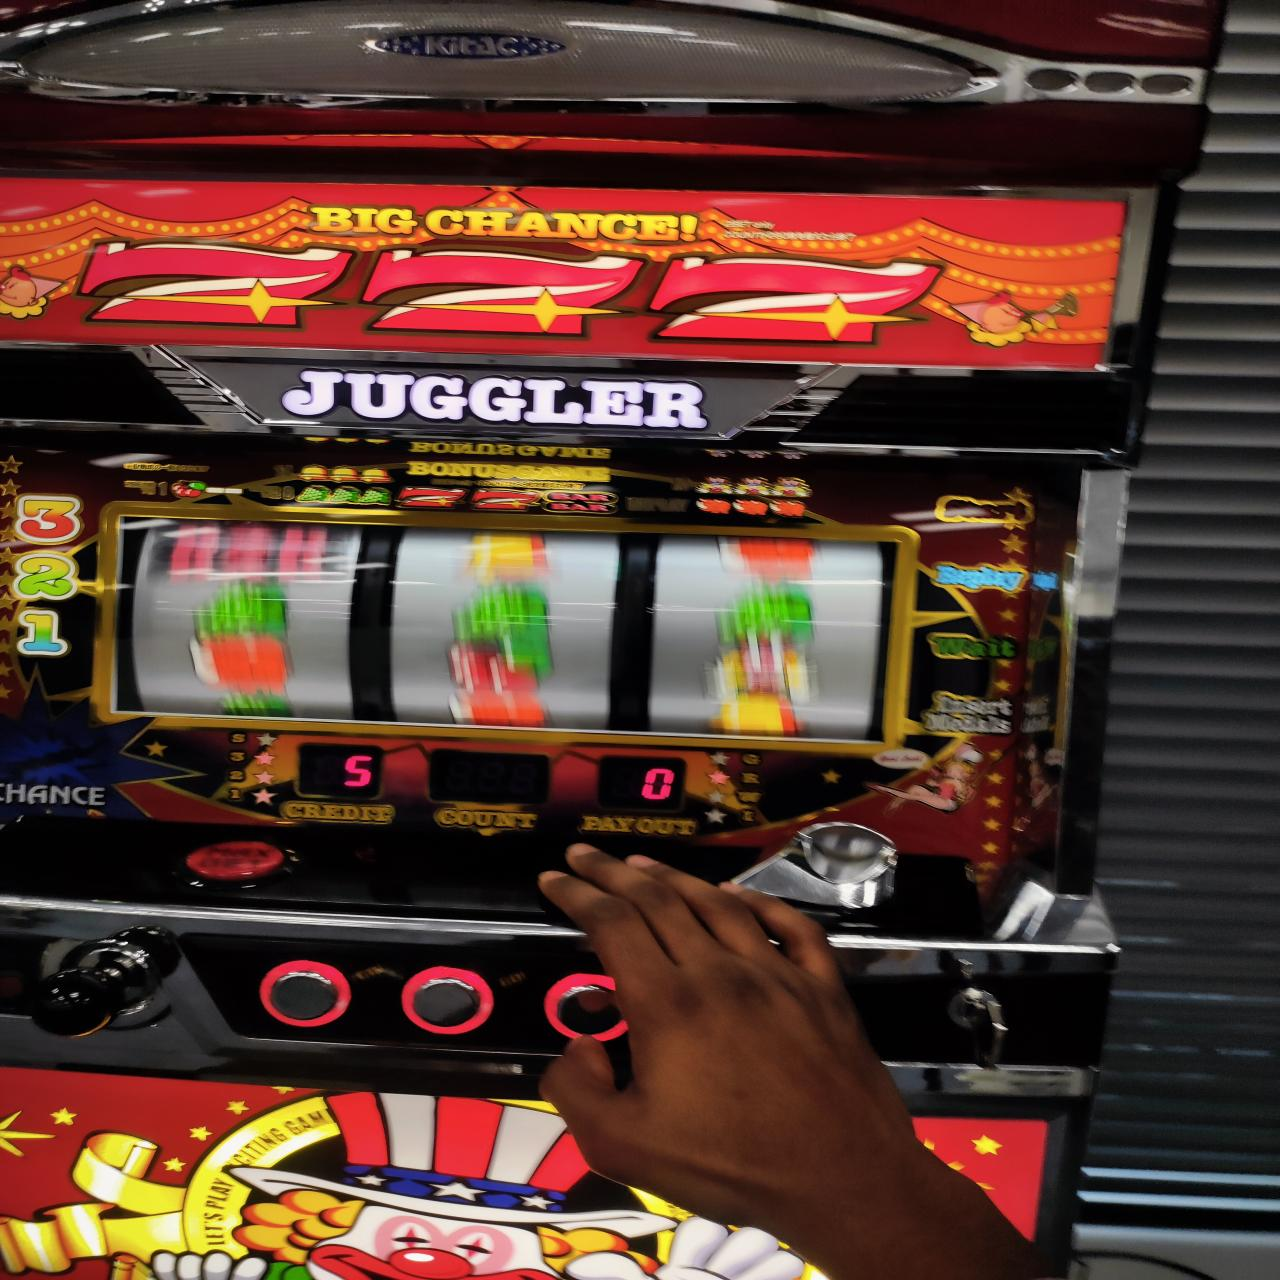rhino: (113, 517, 888, 743)
